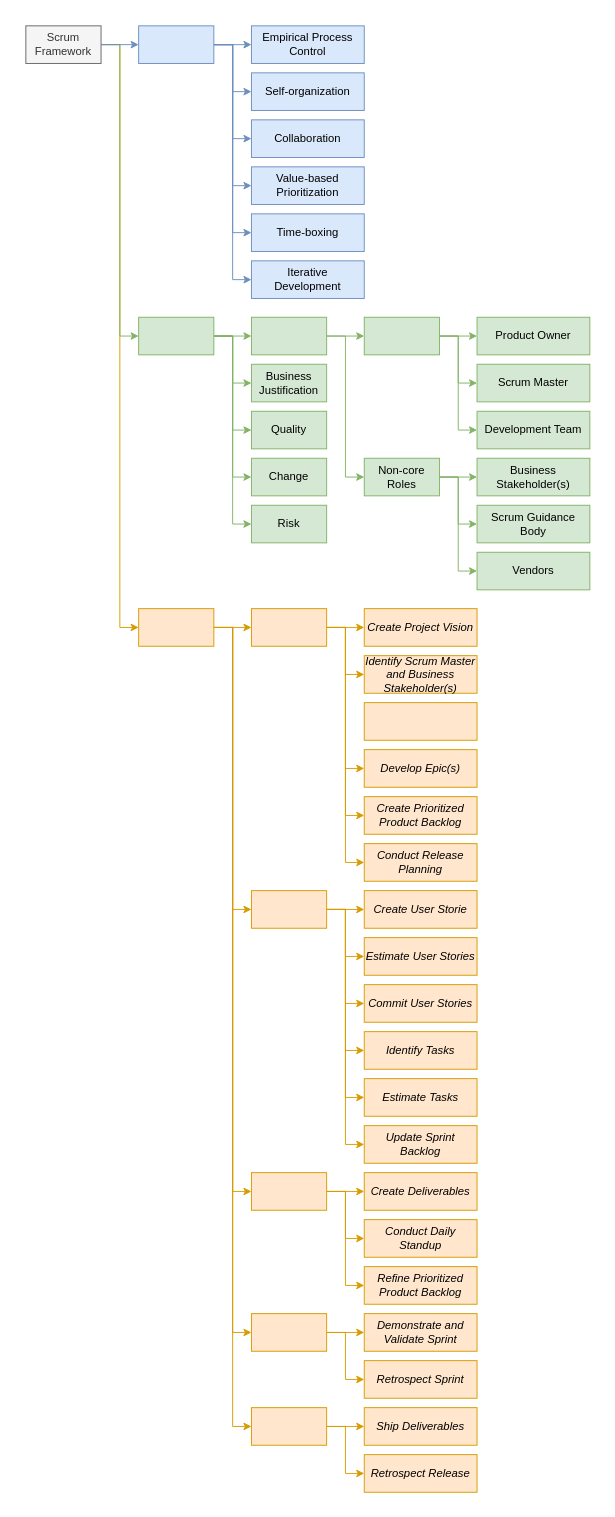
This 615x1517 diagram has some shape labels left out. The shapes that lost their labels are listed below. From the top down, each one's centre as x and y in pixels, then its label:
At (x=176, y=44): "Principles".
At (x=176, y=335): "Aspects".
At (x=289, y=335): "Organization".
At (x=401, y=335): "Core Roles".
At (x=176, y=627): "Processes".
At (x=289, y=627): "Initiate".
At (x=420, y=721): "Form Scrum Team".
At (x=289, y=909): "Plan and Estimate".
At (x=289, y=1191): "Implement".
At (x=289, y=1332): "Review and Retrospect".
At (x=289, y=1426): "Release".
